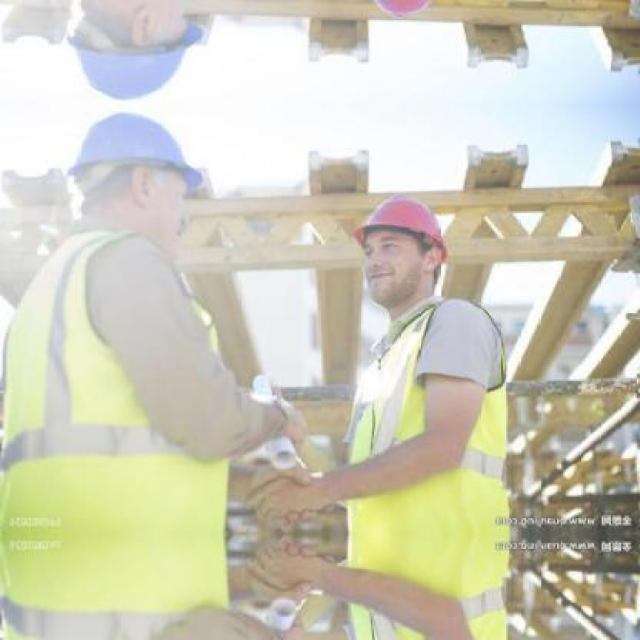Reflective-Jacket: (3, 232, 257, 544), (328, 296, 524, 535)
Safety-Helmet: (45, 103, 220, 199), (334, 188, 464, 273)
